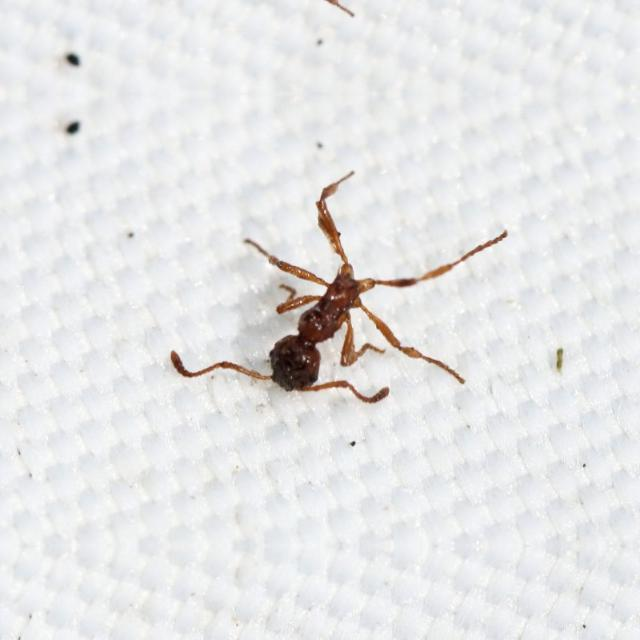Myrmica: (234, 195, 484, 399)
